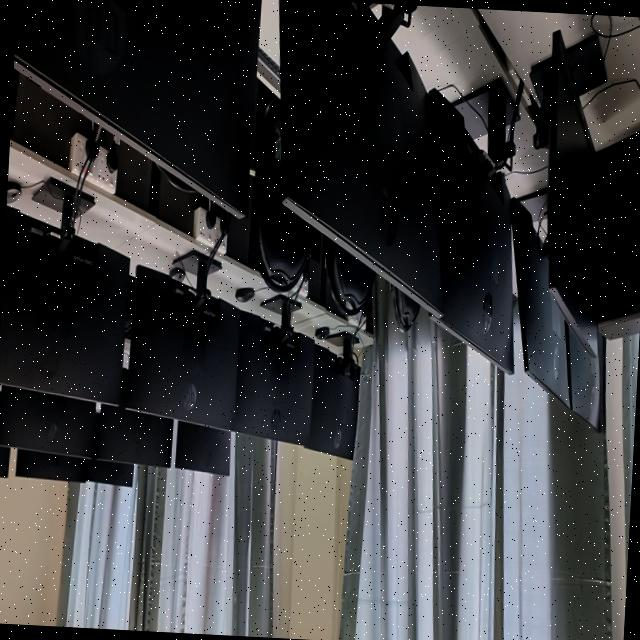Chair: (251, 91, 310, 291), (325, 240, 374, 315), (390, 284, 419, 332), (124, 276, 134, 336)
Monitor: (13, 0, 260, 217), (278, 0, 440, 313), (0, 174, 131, 407), (428, 77, 519, 374), (529, 30, 605, 356), (124, 250, 240, 430), (510, 197, 570, 406), (231, 294, 314, 444), (303, 331, 360, 458), (0, 385, 94, 457), (96, 404, 172, 466), (564, 324, 600, 431), (174, 420, 230, 475), (15, 449, 87, 481), (86, 459, 133, 486), (0, 447, 9, 476)
Mouse: (6, 181, 20, 203), (235, 287, 254, 302), (169, 266, 185, 281), (314, 326, 329, 339)
